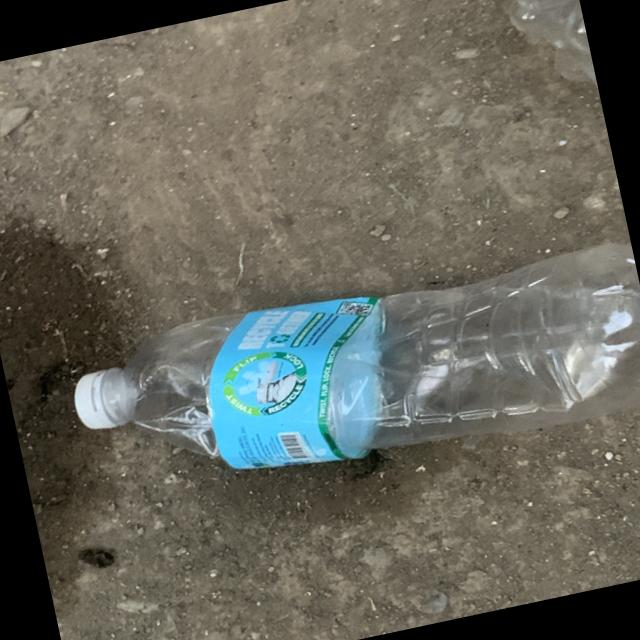Bottle: (74, 243, 640, 469)
